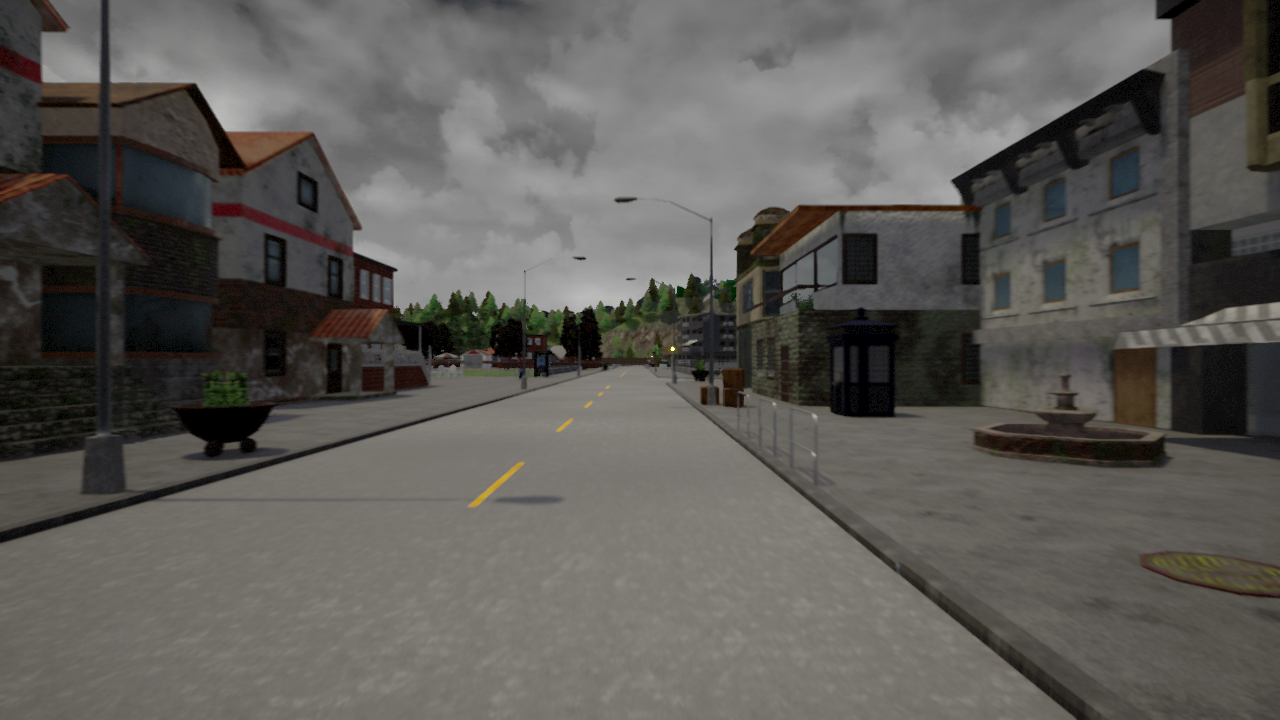yellow: (669, 339, 676, 355)
